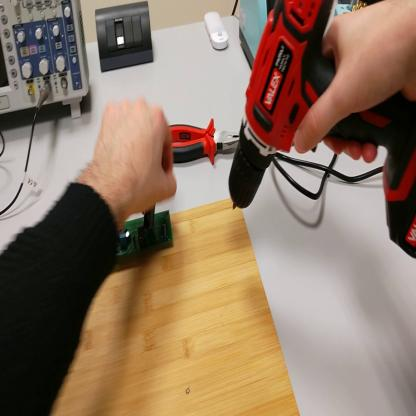electric screwdriver: (230, 3, 416, 258)
hand: (294, 2, 416, 176), (89, 98, 177, 225)
high voltage board: (116, 212, 174, 259)
oscilloscope: (2, 4, 91, 128)
pliers: (171, 113, 242, 166)
welder station: (240, 4, 275, 69)
working area: (59, 200, 300, 416)
